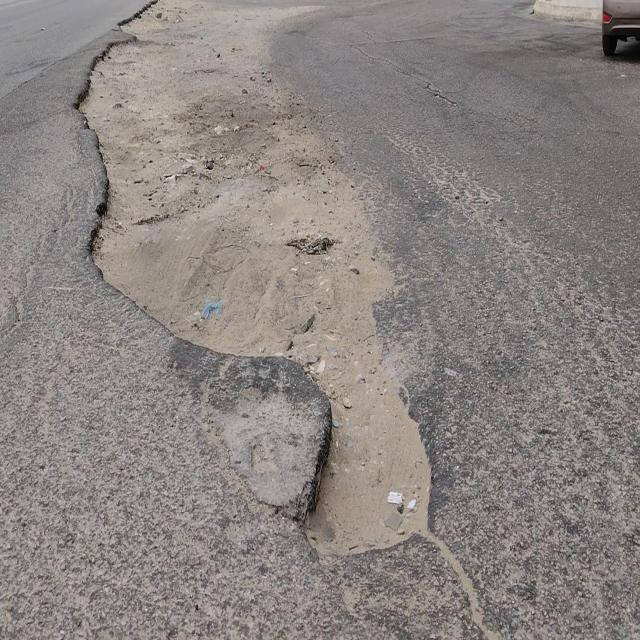Pothole: (297, 374, 436, 562), (85, 177, 169, 301), (71, 70, 125, 139), (102, 38, 139, 72)
